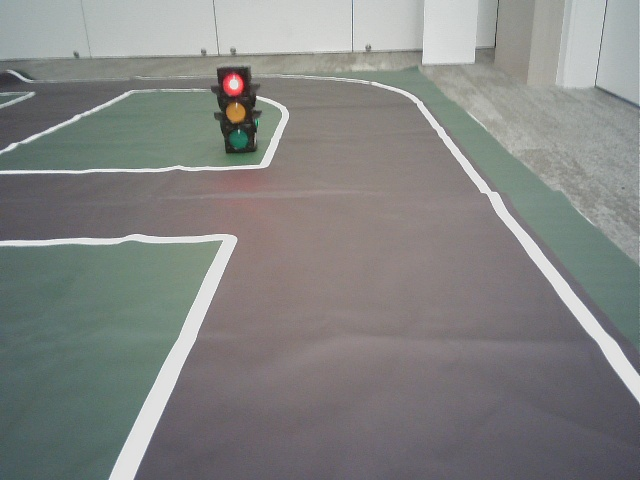red: (218, 68, 251, 151)
